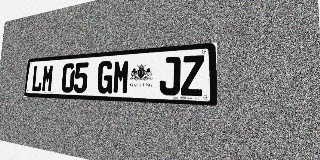0: (61, 63, 75, 93)
5: (73, 62, 89, 93)
G: (97, 61, 114, 94)
J: (159, 56, 181, 96)
L: (31, 65, 43, 92)
M: (112, 59, 130, 94), (41, 64, 54, 92)
Z: (181, 55, 204, 96)
